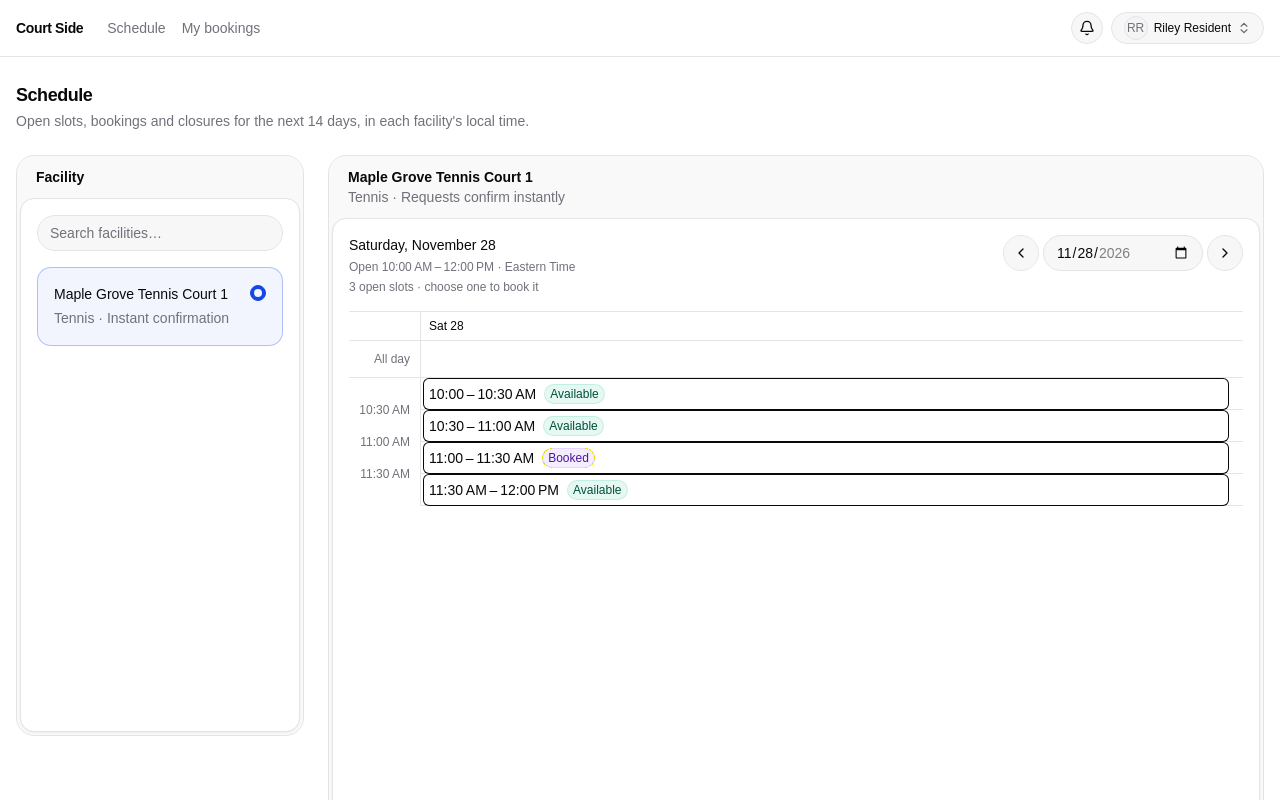
Scenario: requesting a slot › books an open slot for an active account with an Idempotency-Key
Click the button with aria-label "Request 10:00" at x=483, y=394, box [423,378,1229,410]
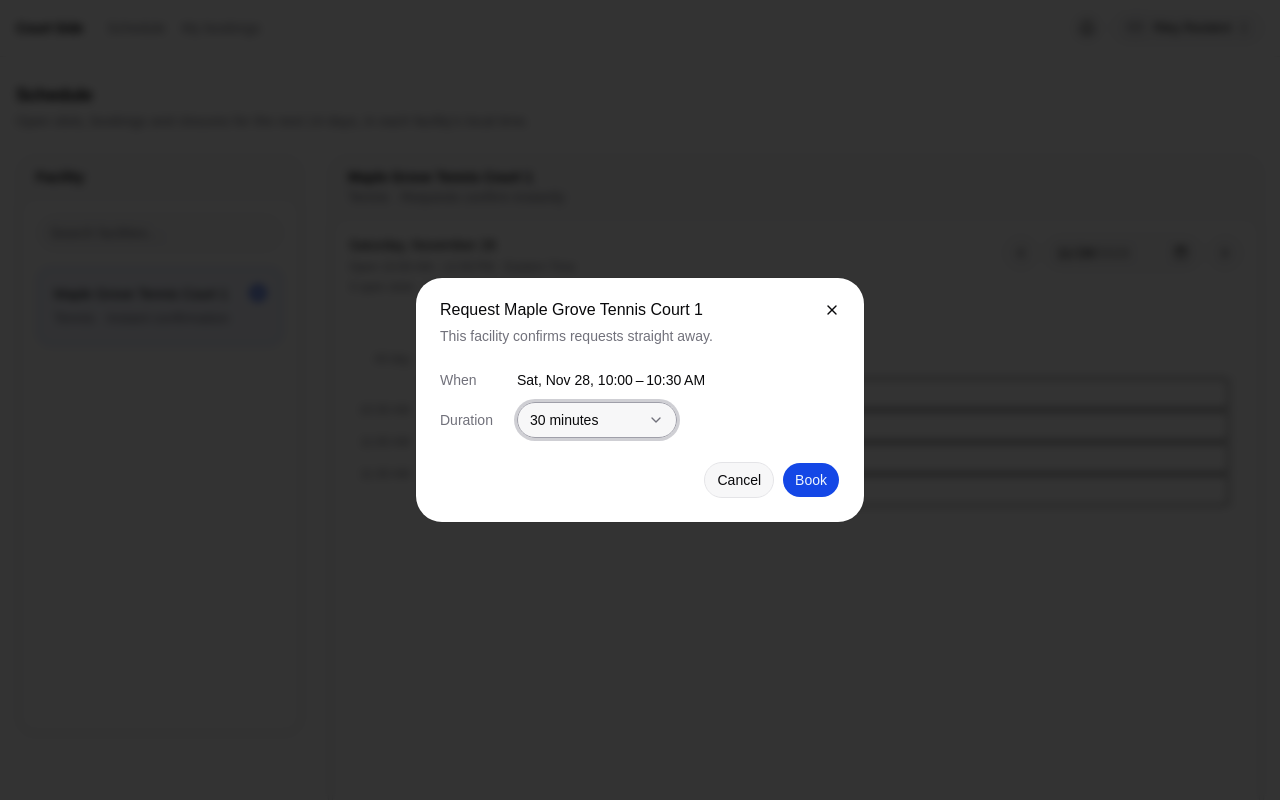
Click the button "Book" at x=811, y=480, box [782,462,840,498]
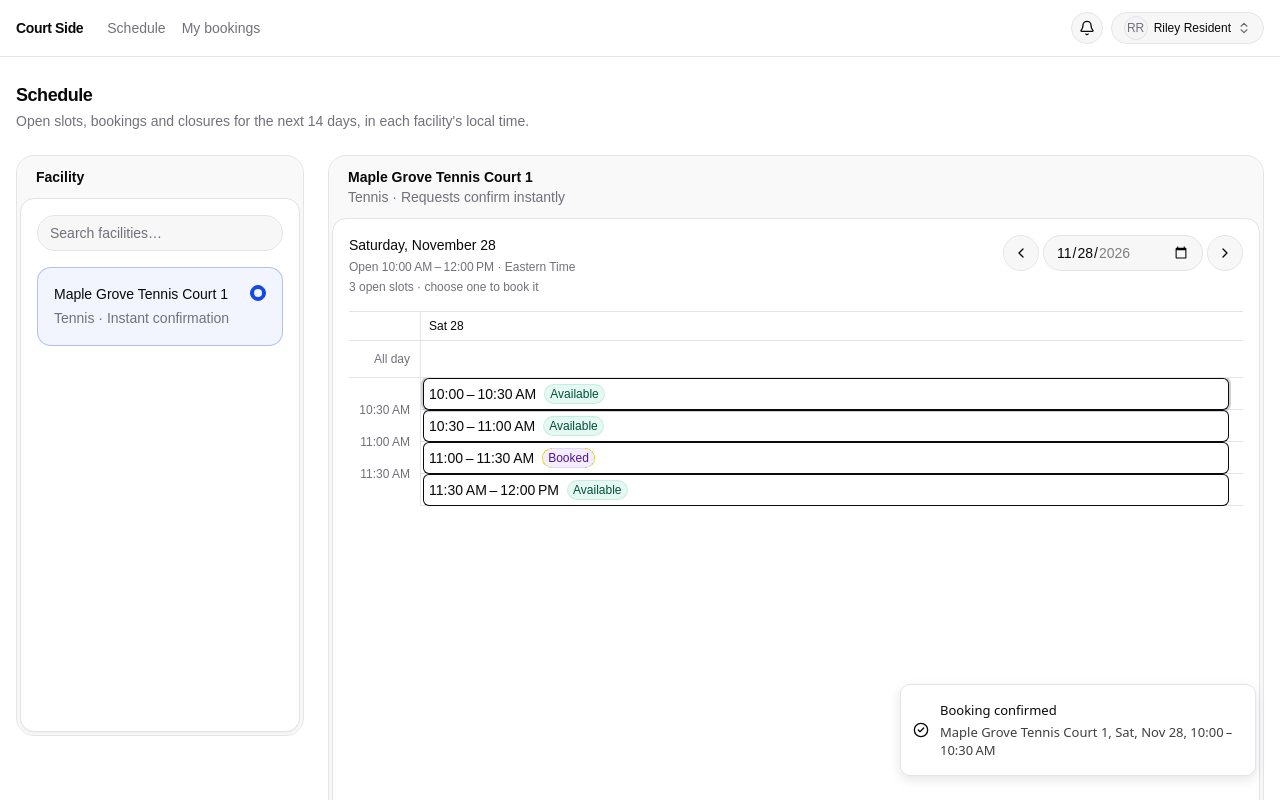
Check: the text "Booking confirmed" is shown, box [940,701,1057,719]
